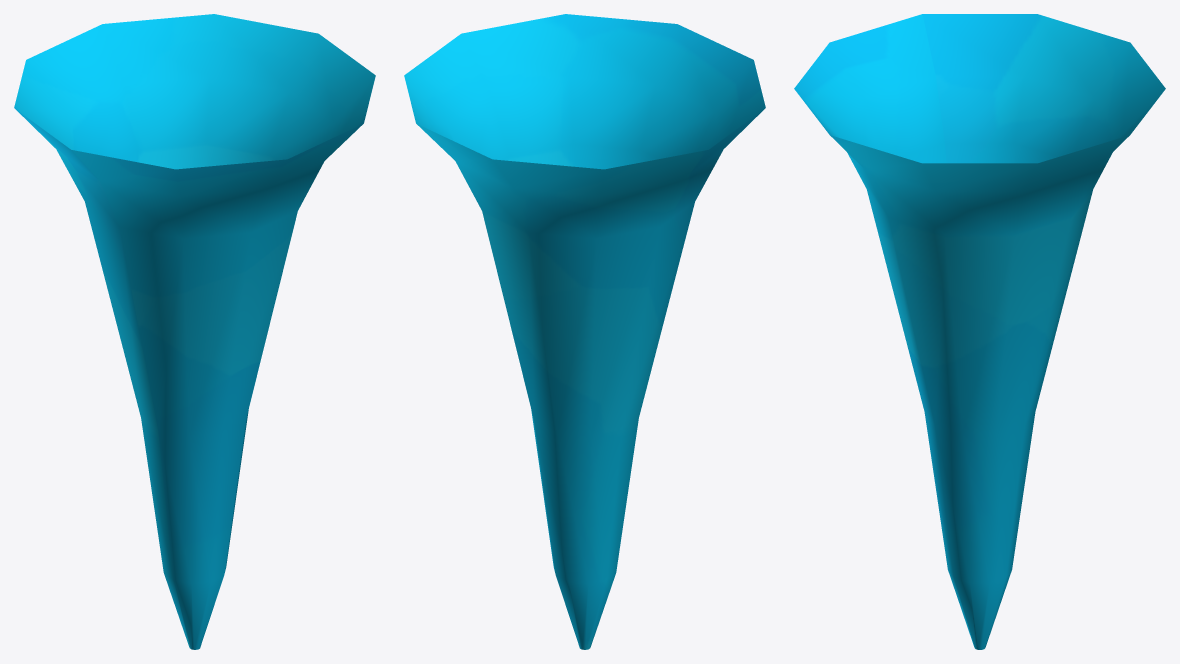
The model's file is Icicle.fbx.
3 renders of one model, left to right at view 1: azimuth 30°, elevation 25°; view 2: azimuth 150°, elevation 25°; view 3: azimuth 270°, elevation 25°, orthographic.
Parts seen in each view (by area): view 1: IceCicle_1; view 2: IceCicle_1; view 3: IceCicle_1.
Boxes of the visible parts, bbox=[...] form: IceCicle_1: bbox=[14, 14, 375, 649]; IceCicle_1: bbox=[404, 14, 765, 649]; IceCicle_1: bbox=[794, 14, 1165, 649].
Bounding box in the file's own units: 0.2455 × 0.4281 × 0.2581.
